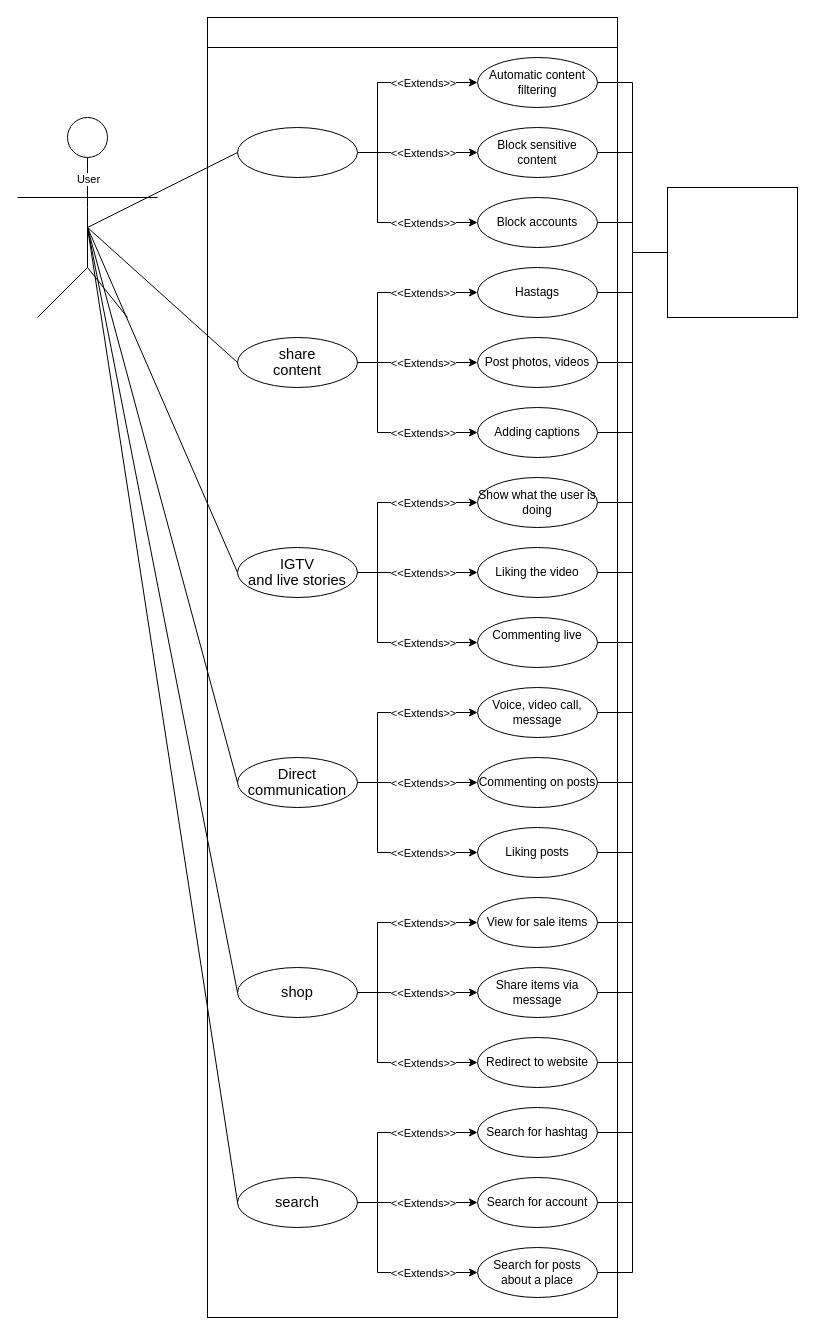
This 815x1335 diagram has some shape labels left out. Each missing label, with the centre of its shape:
"Filter Content" belongs at (x=297, y=152).
"Instagram" belongs at (x=412, y=32).
"Server" belongs at (x=732, y=252).
